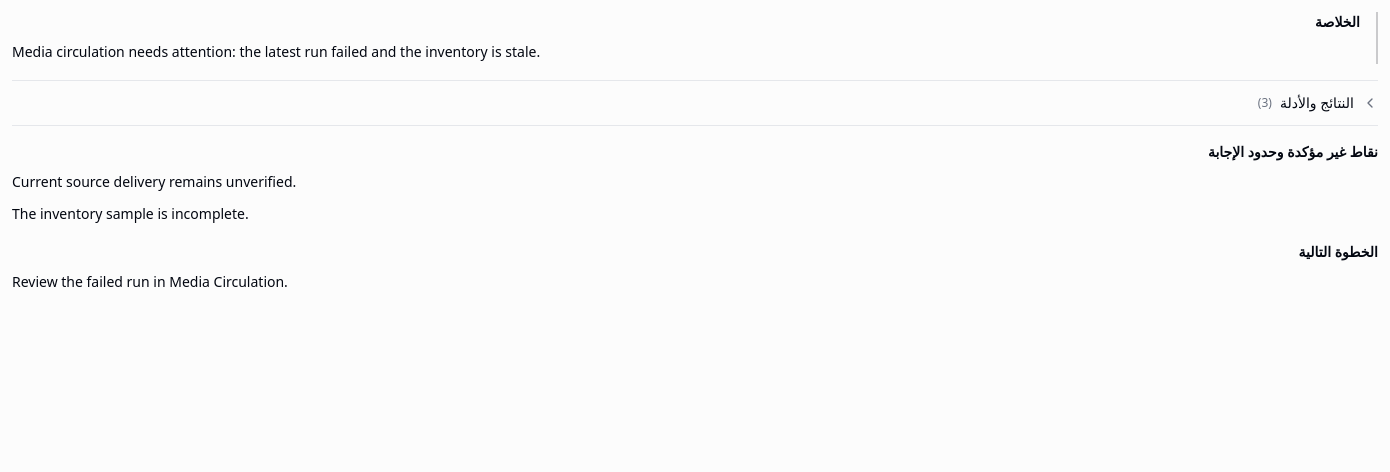
Test: supports Arabic disclosures and leaves greetings unlabelled
Later steps or results of the test are not shown.
Expected: the heading "الخلاصة" is shown, [1315, 12, 1360, 32]
Click the heading "النتائج والأدلة (3)".
click(1318, 102)  # box [1258, 93, 1378, 112]
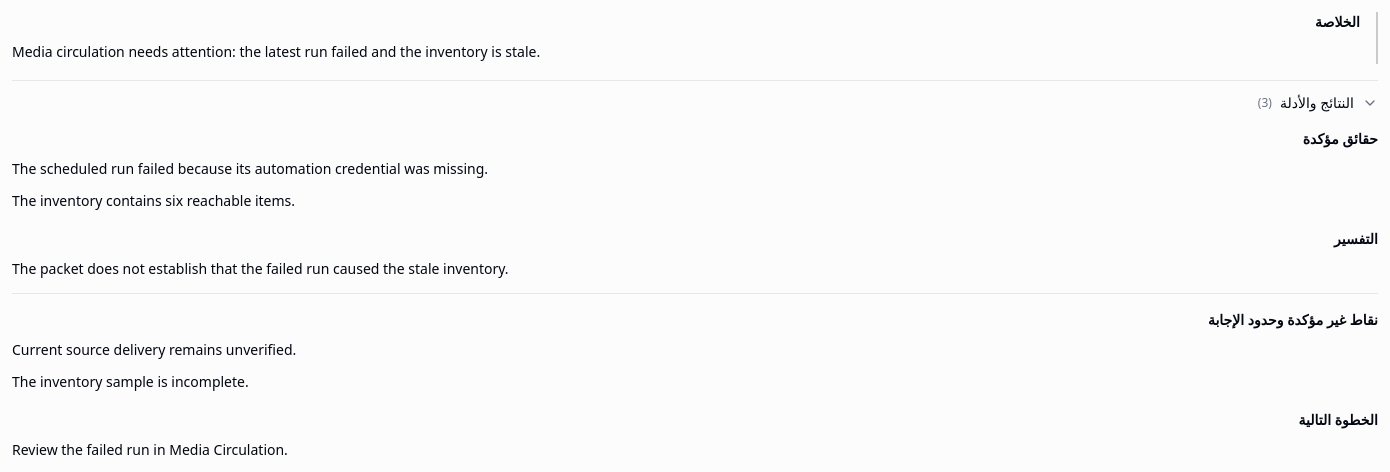
Expected: the text "The scheduled run failed because its automation credential was missing." is shown, [12, 159, 488, 178]
